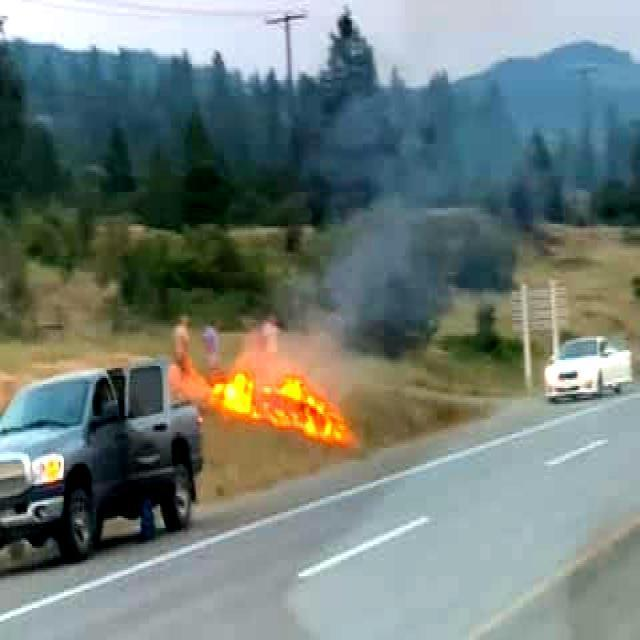Fire: (201, 368, 362, 442)
Smoke: (293, 37, 607, 384)
